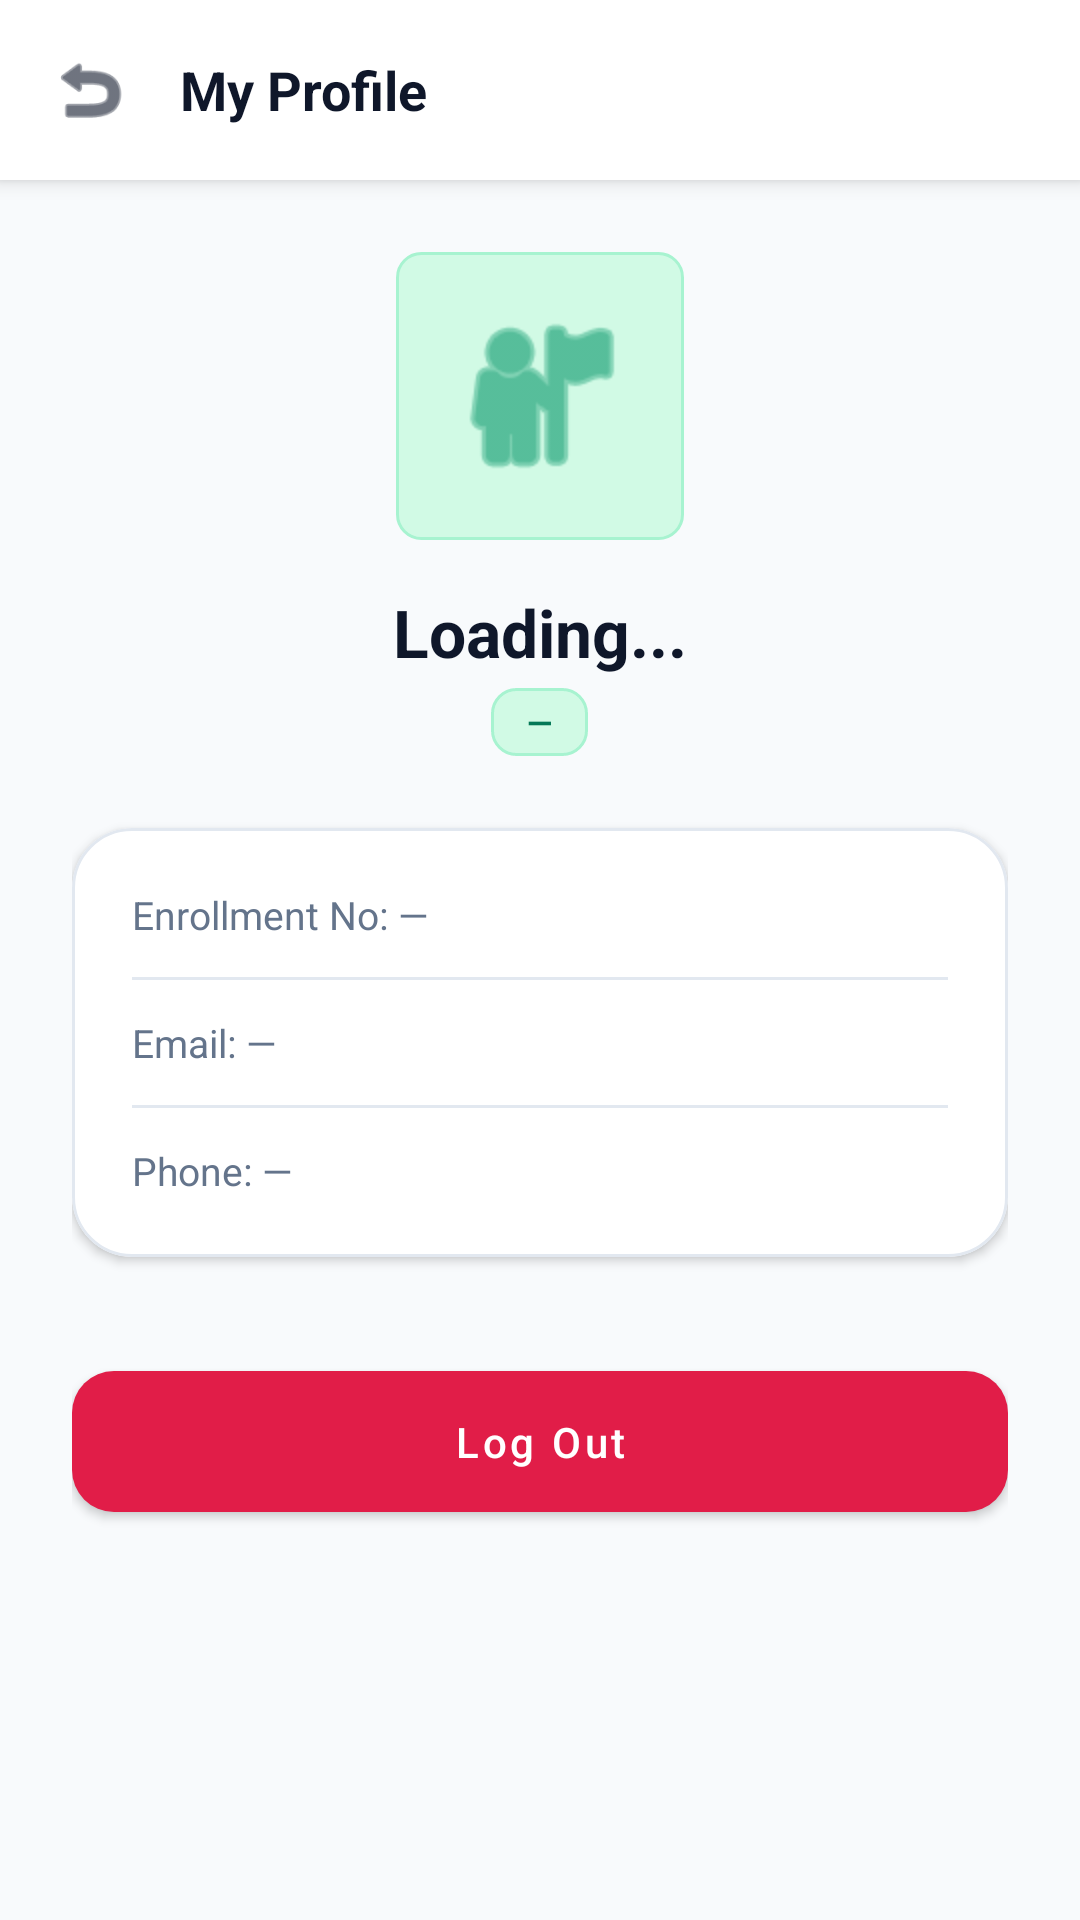

Screen size 1080px×1920px. Icon name, then its center in pixels as (x=x, y=y):
myplaces: (x=540, y=396)
revert: (x=91, y=90)
